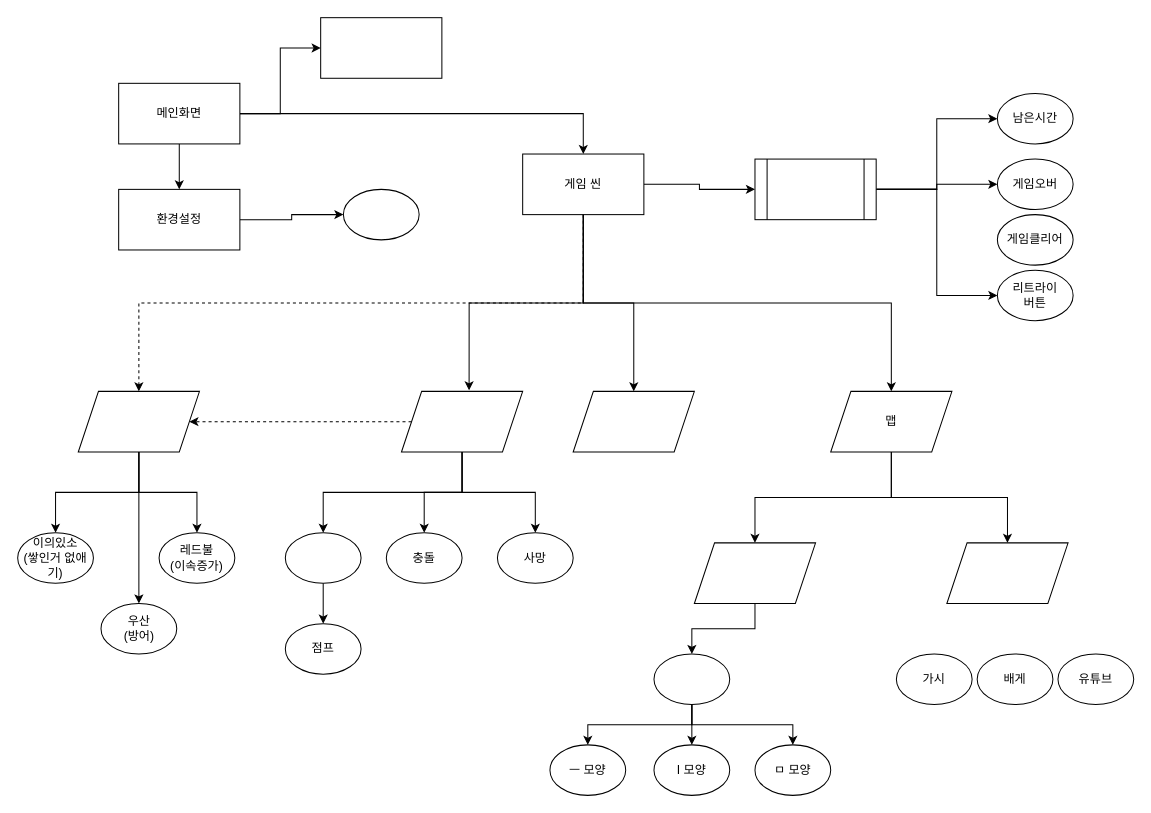
Some shapes in this 1151 by 813 pixel diagram are drawn without their labels. Here are the shapes that lost their labels. From the top down, the box of each, then its label:
(320, 17, 442, 78): 캐릭터 선택
(754, 158, 876, 220): UI
(342, 188, 419, 240): 소리조절
(77, 390, 199, 452): 아이템
(400, 390, 523, 452): 캐릭터
(572, 390, 694, 452): 효과음
(284, 532, 361, 583): 이동
(693, 542, 816, 603): 매니저님
(946, 542, 1068, 603): 장애물들
(653, 653, 730, 704): TIL
